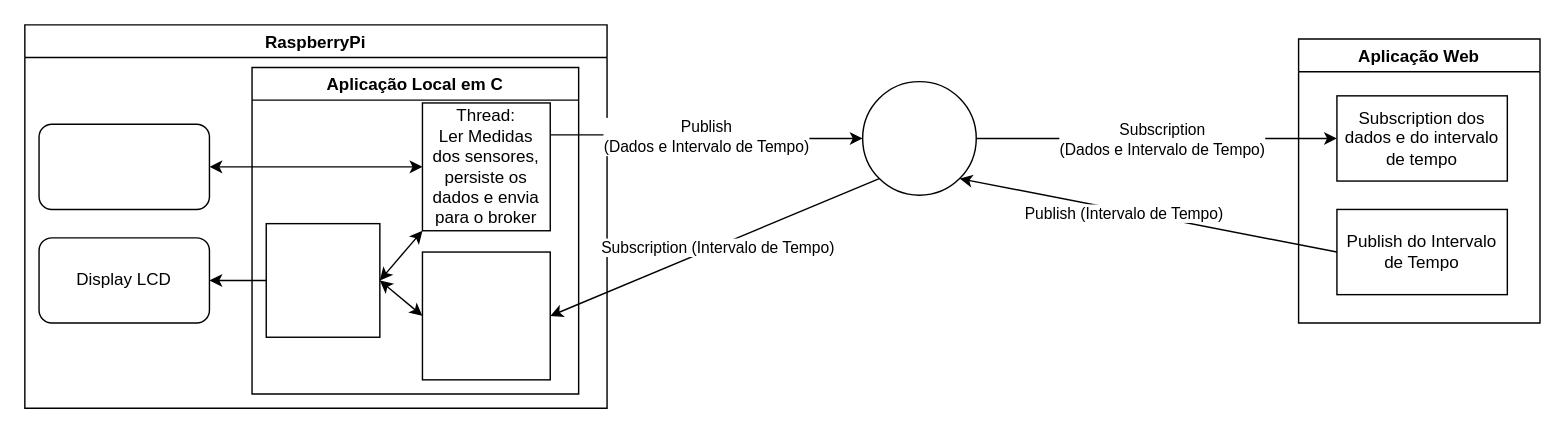
Image size: 1565x433. Some labels were removed from this diagram. Each missing label, with the centre of its shape:
"Broker MQTT" belongs at point 918,137.
"Sensores" belongs at point 123,166.
"Thread Principal: Controla a LCD exibindo os dados" belongs at point 322,279.
"Thread: Subscription no topico referente ao intervalo de tempo." belongs at point 485,315.
